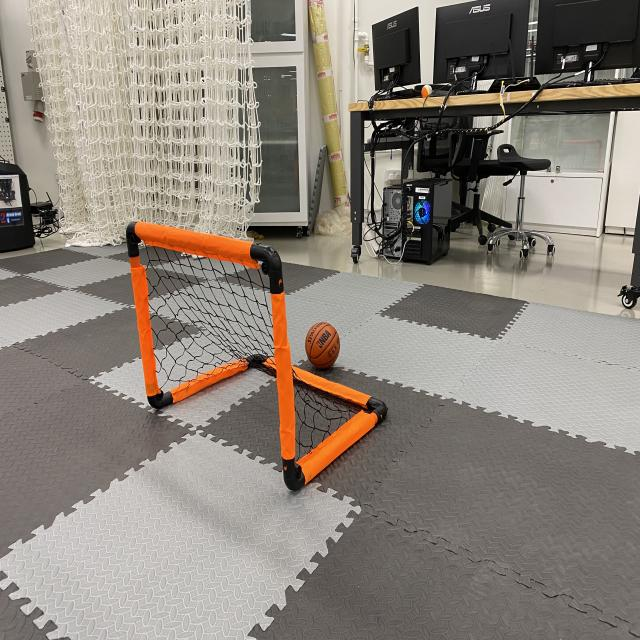ball: (302, 317, 343, 373)
gate: (123, 215, 392, 499)
